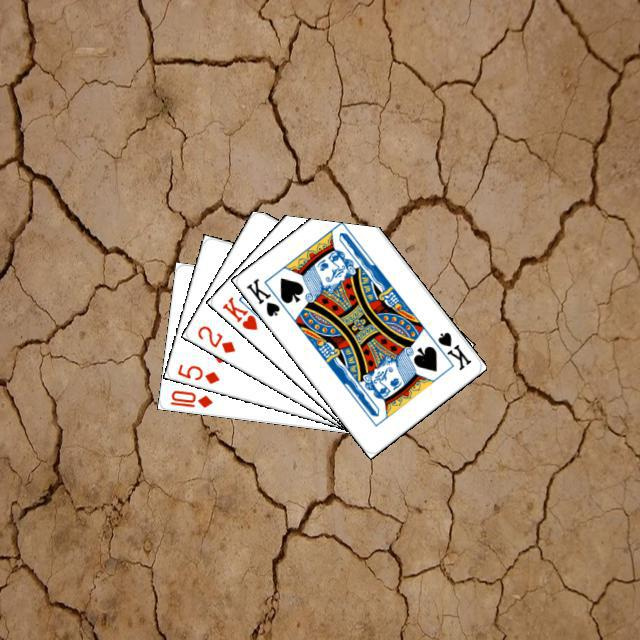10d: (165, 385, 214, 410)
2d: (192, 320, 237, 355)
5d: (172, 359, 221, 386)
Kh: (217, 292, 269, 332)
Ks: (425, 327, 473, 372), (241, 273, 282, 318)
